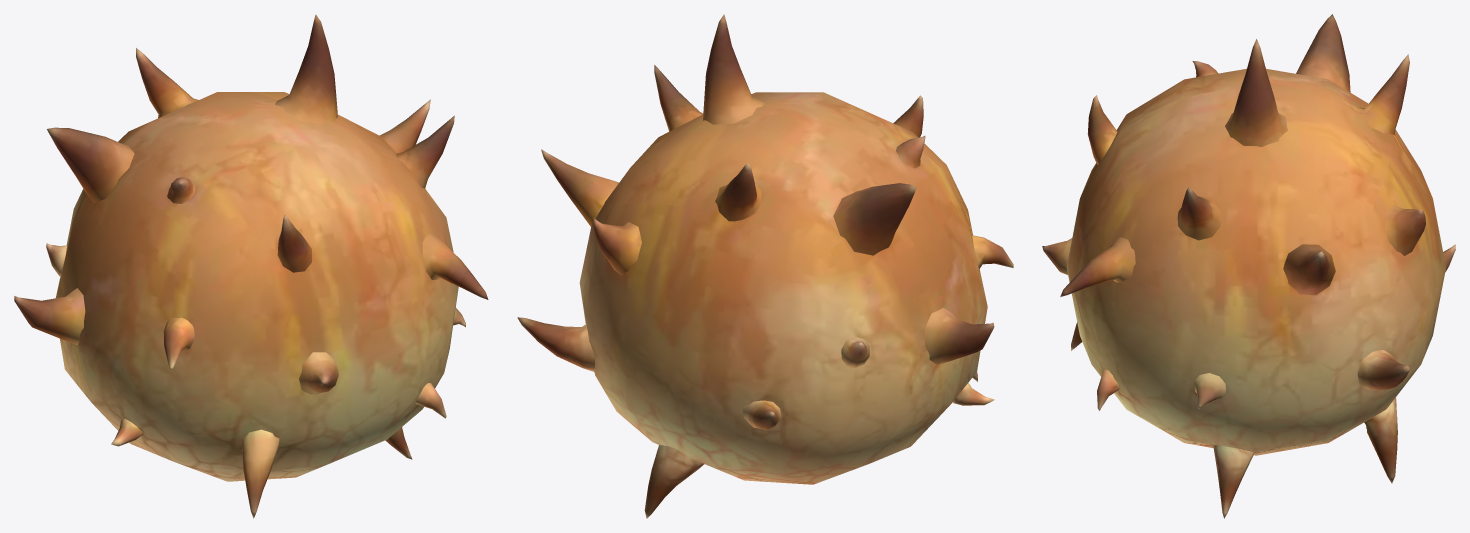
3 renders of one model, left to right at view 1: azimuth 30°, elevation 25°; view 2: azimuth 150°, elevation 25°; view 3: azimuth 270°, elevation 25°, orthographic. The views are drawn at different scales.
Parts seen in each view (by area): view 1: SM_Exploding_Plant_Trap_Flower_01_LOD0; view 2: SM_Exploding_Plant_Trap_Flower_01_LOD0; view 3: SM_Exploding_Plant_Trap_Flower_01_LOD0.
Part boxes in pixels (box(x1,y1,x2,y2)): SM_Exploding_Plant_Trap_Flower_01_LOD0: box(14, 14, 488, 518); SM_Exploding_Plant_Trap_Flower_01_LOD0: box(517, 14, 1013, 518); SM_Exploding_Plant_Trap_Flower_01_LOD0: box(1042, 14, 1455, 518).
Bounding box in the file's own units: 1.52 × 1.52 × 1.29.
1 material, 1 textured.
